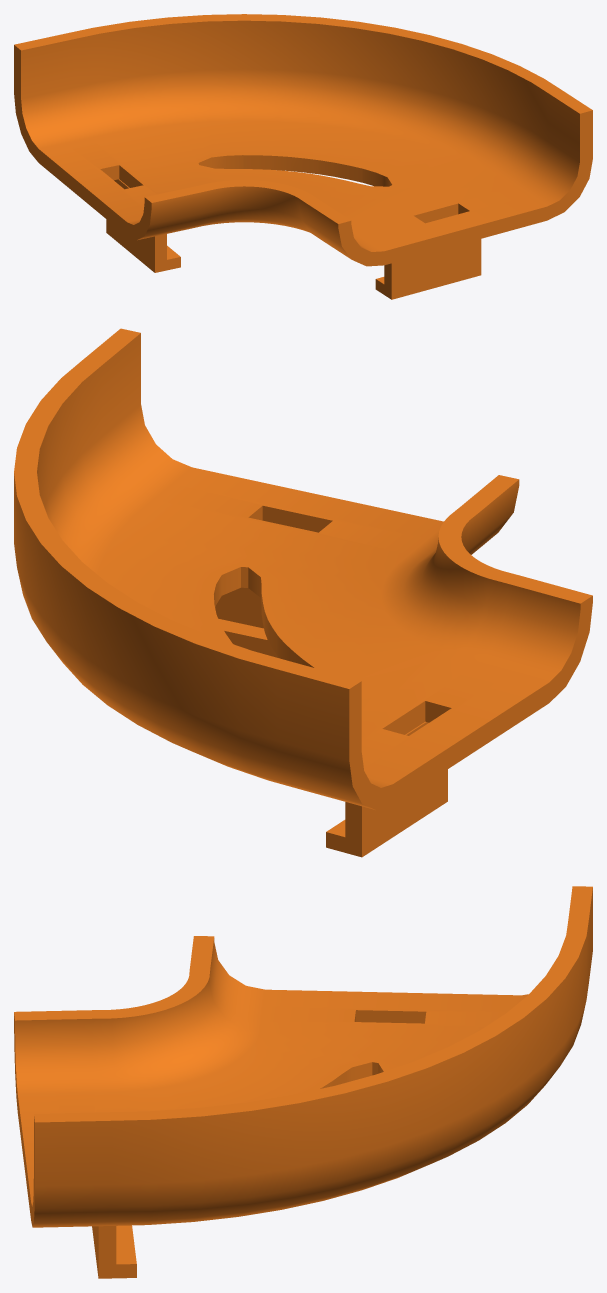
3 views of the same model, one above another, from view 1: azimuth 30°, elevation 25°; view 2: azimuth 150°, elevation 25°; view 3: azimuth 270°, elevation 25° (orthographic). The views are drawn at different scales.
Parts seen in each view (by area): view 1: T-03; view 2: T-03; view 3: T-03.
Boxes of the visible parts, box(x1,y1,x2,y2) form: T-03: box(14, 14, 592, 299); T-03: box(14, 328, 592, 857); T-03: box(14, 886, 592, 1278).
Bounding box in the file's own units: 0.0452 × 0.0183 × 0.0452.
